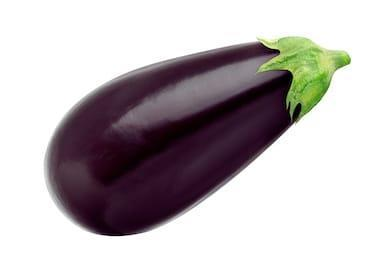eggplant: (47, 37, 350, 235)
